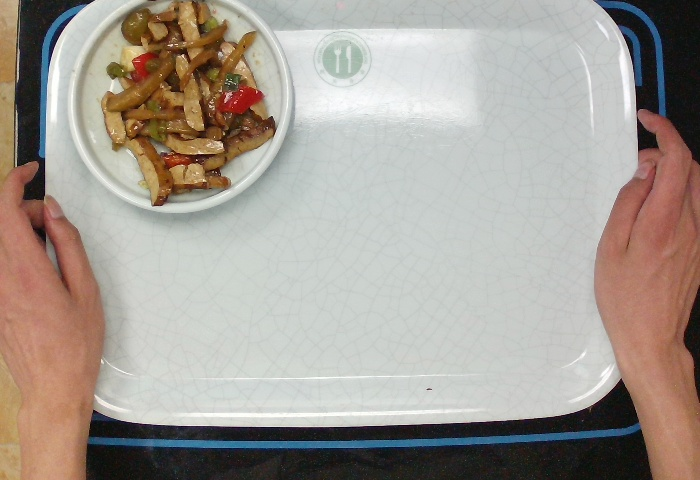JYsf-Xiao_Yuan_Pan: (65, 1, 294, 214)
